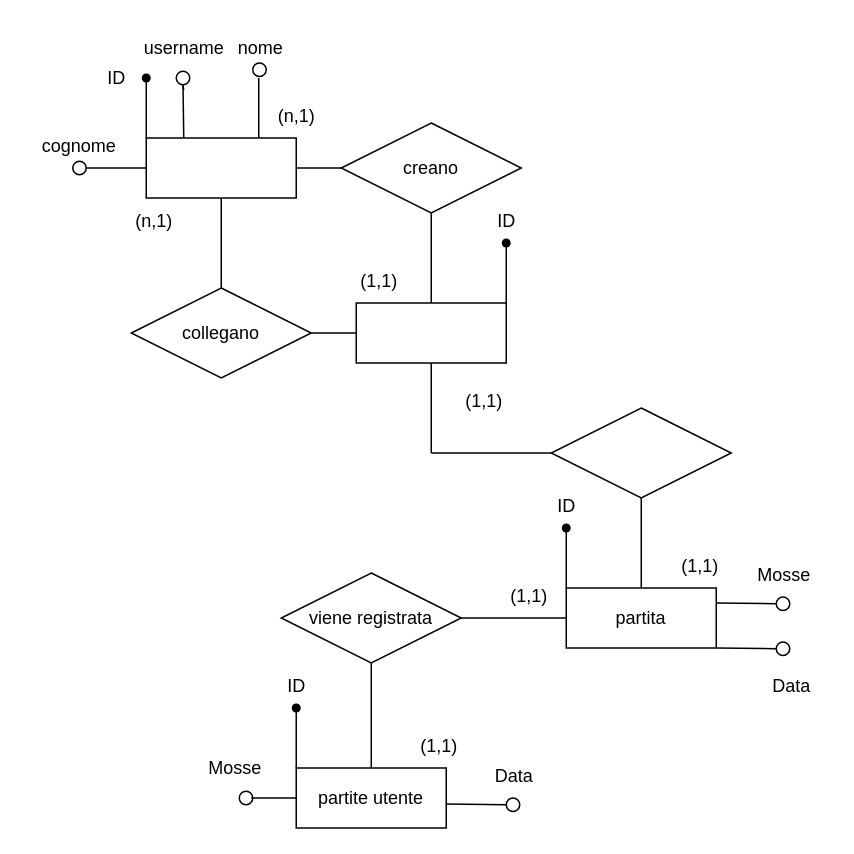
Some shapes in this 854 by 854 pixel diagram are drawn without their labels. The box of each missing label's shape, as (x1, y1, x2, y2) in pixels:
abbinano: (550, 406, 731, 498)
partite disponibili: (355, 302, 506, 363)
utenti: (145, 136, 296, 198)
